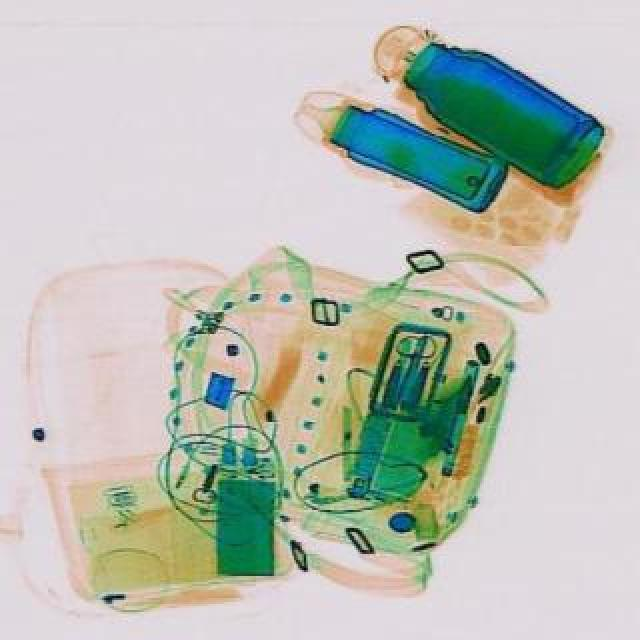pliers: (380, 330, 436, 406)
